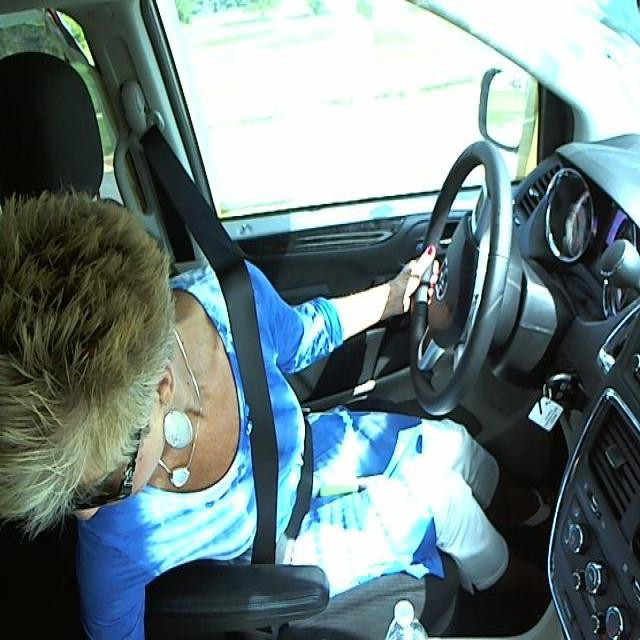seatbelt: (205, 216, 332, 569)
